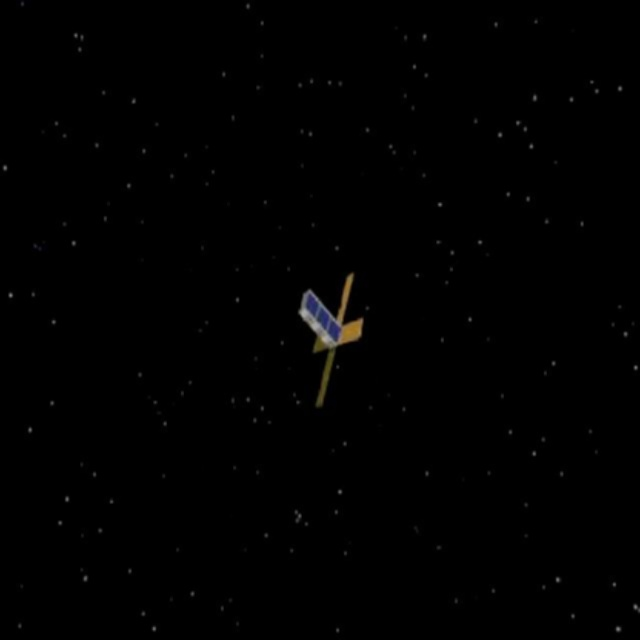medium_debris: (277, 264, 375, 420)
